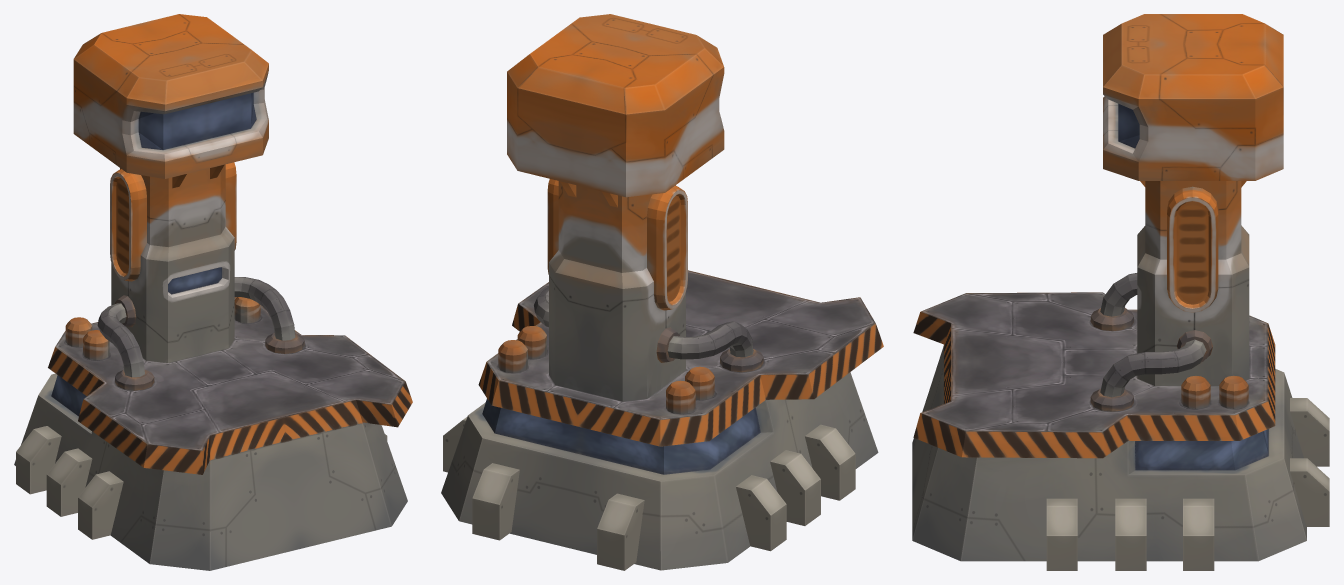
The model's file is base_engine_HI.fbx.
3 renders of one model, left to right at view 1: azimuth 30°, elevation 25°; view 2: azimuth 150°, elevation 25°; view 3: azimuth 270°, elevation 25°, orthographic. The views are drawn at different scales.
Parts seen in each view (by area): view 1: base_engine_HI; view 2: base_engine_HI; view 3: base_engine_HI.
Boxes of the visible parts, box(x1,y1,x2,y2) form: base_engine_HI: box(14, 14, 412, 570); base_engine_HI: box(441, 14, 883, 570); base_engine_HI: box(912, 14, 1329, 570).
Size of the model in its own units: 668 by 745 by 881.
